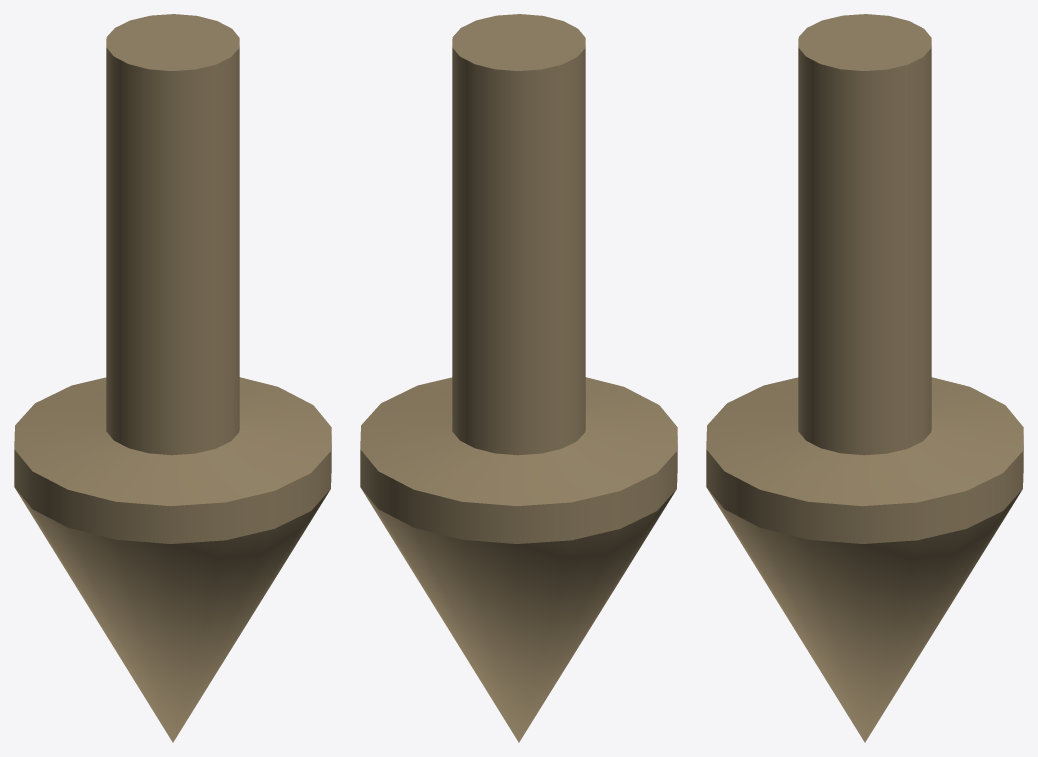
Rendered from PointerArrow.fbx.
3 renders of one model, left to right at view 1: azimuth 30°, elevation 25°; view 2: azimuth 150°, elevation 25°; view 3: azimuth 270°, elevation 25°, orthographic.
Parts seen in each view (by area): view 1: pCylinder1; view 2: pCylinder1; view 3: pCylinder1.
Part boxes in pixels (x1=…): pCylinder1: x1=14, y1=14, x2=331, y2=742; pCylinder1: x1=360, y1=14, x2=677, y2=742; pCylinder1: x1=706, y1=14, x2=1023, y2=742.
Bounding box in the file's own units: 2 × 4.81 × 1.97.
